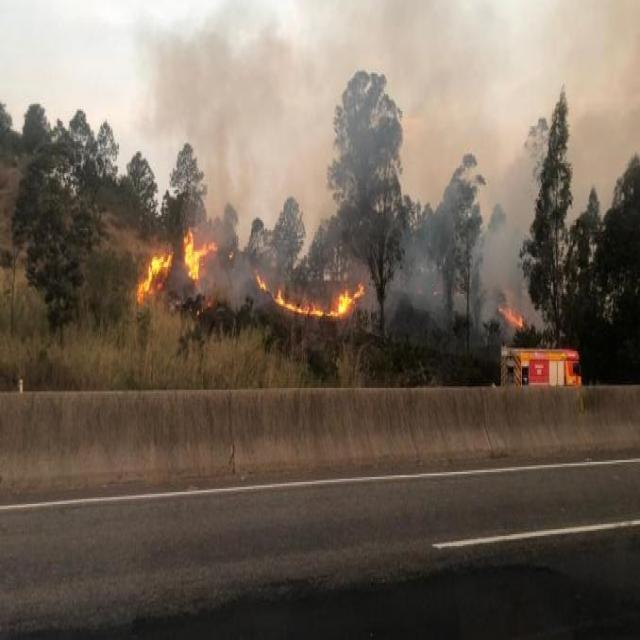Fire: (251, 252, 367, 328), (129, 222, 225, 310), (494, 274, 529, 342)
Smoke: (143, 13, 638, 220), (378, 216, 490, 341)
